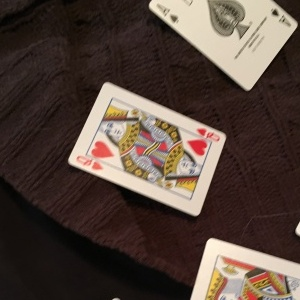card: (71, 81, 228, 219)
